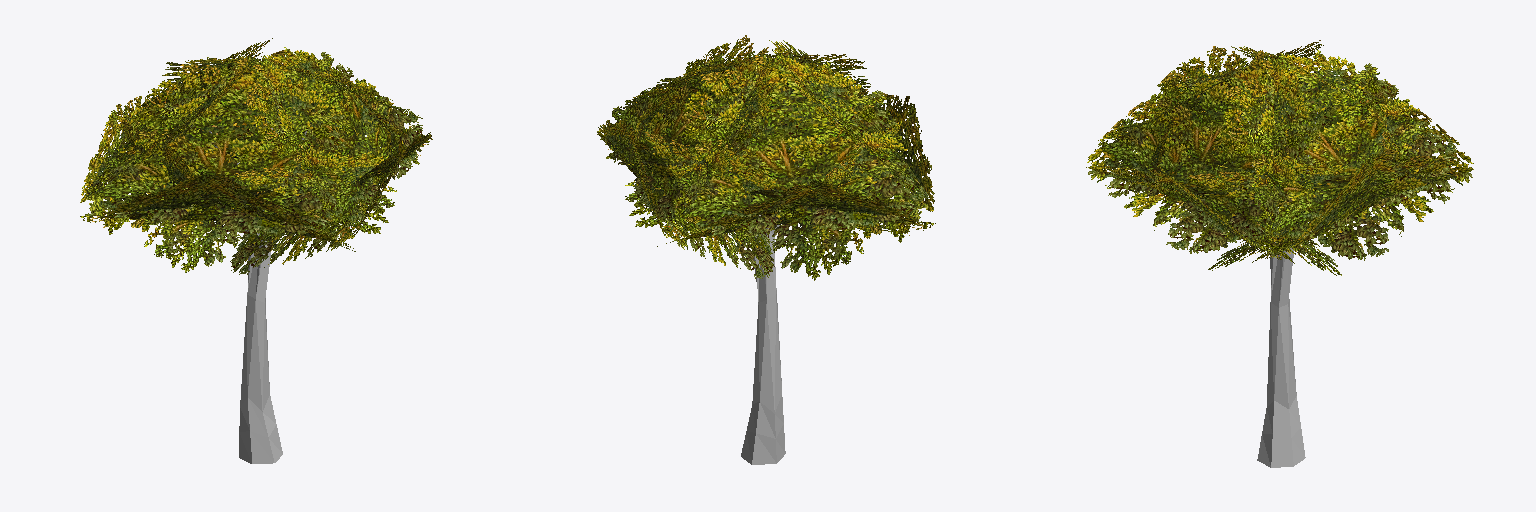
3 views of the same model, side by side, from view 1: azimuth 30°, elevation 25°; view 2: azimuth 150°, elevation 25°; view 3: azimuth 270°, elevation 25° (orthographic).
Parts seen in each view (by area): view 1: canopylesstree01.m2; view 2: canopylesstree01.m2; view 3: canopylesstree01.m2.
Part boxes in pixels (x1,y1,x2,y2): canopylesstree01.m2: (80,38,432,463); canopylesstree01.m2: (597,35,935,464); canopylesstree01.m2: (1086,40,1473,467).
Bounding box in the file's own units: 79 × 82.55 × 76.46.
2 materials, 1 textured.